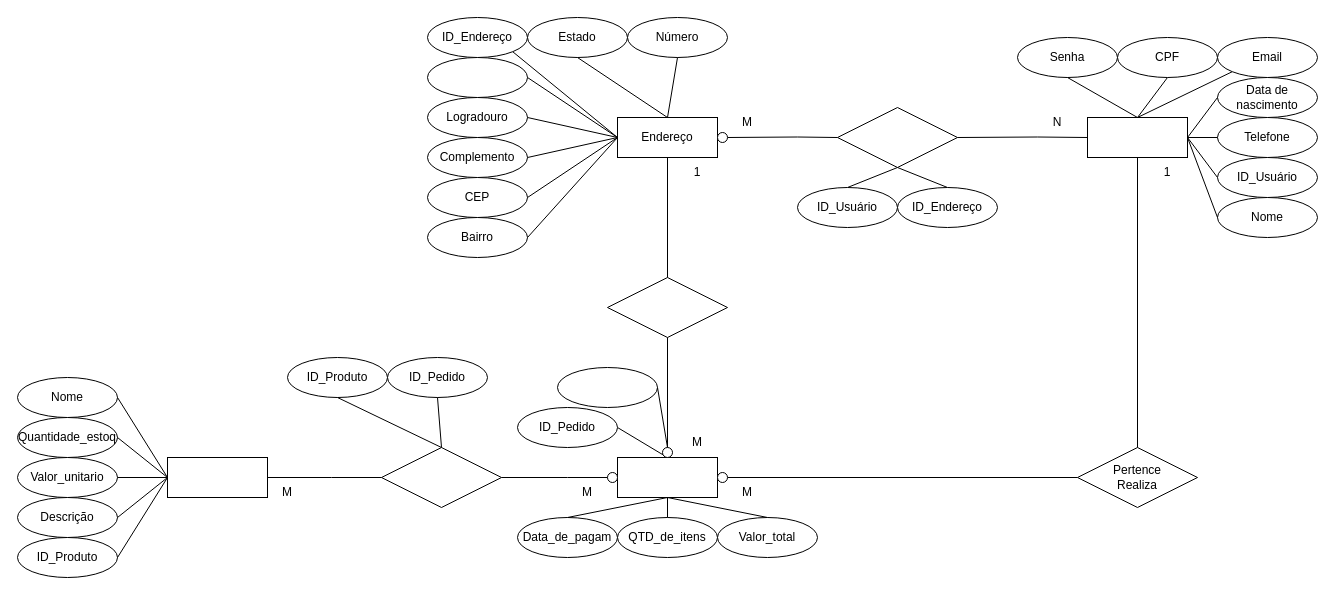
This 1335x595 diagram has some shape labels left out. Here are the shapes that lost their labels. From the top down, the centre of each, then its label:
At (x=477, y=77): "Cidade".
At (x=897, y=137): "Possuir Pertence".
At (x=1137, y=137): "Usuário".
At (x=667, y=307): "Pertence Utiliza".
At (x=607, y=387): "Método_de_pag".
At (x=217, y=477): "Produto".
At (x=441, y=477): "Contêm Está".
At (x=667, y=477): "Pedido".
